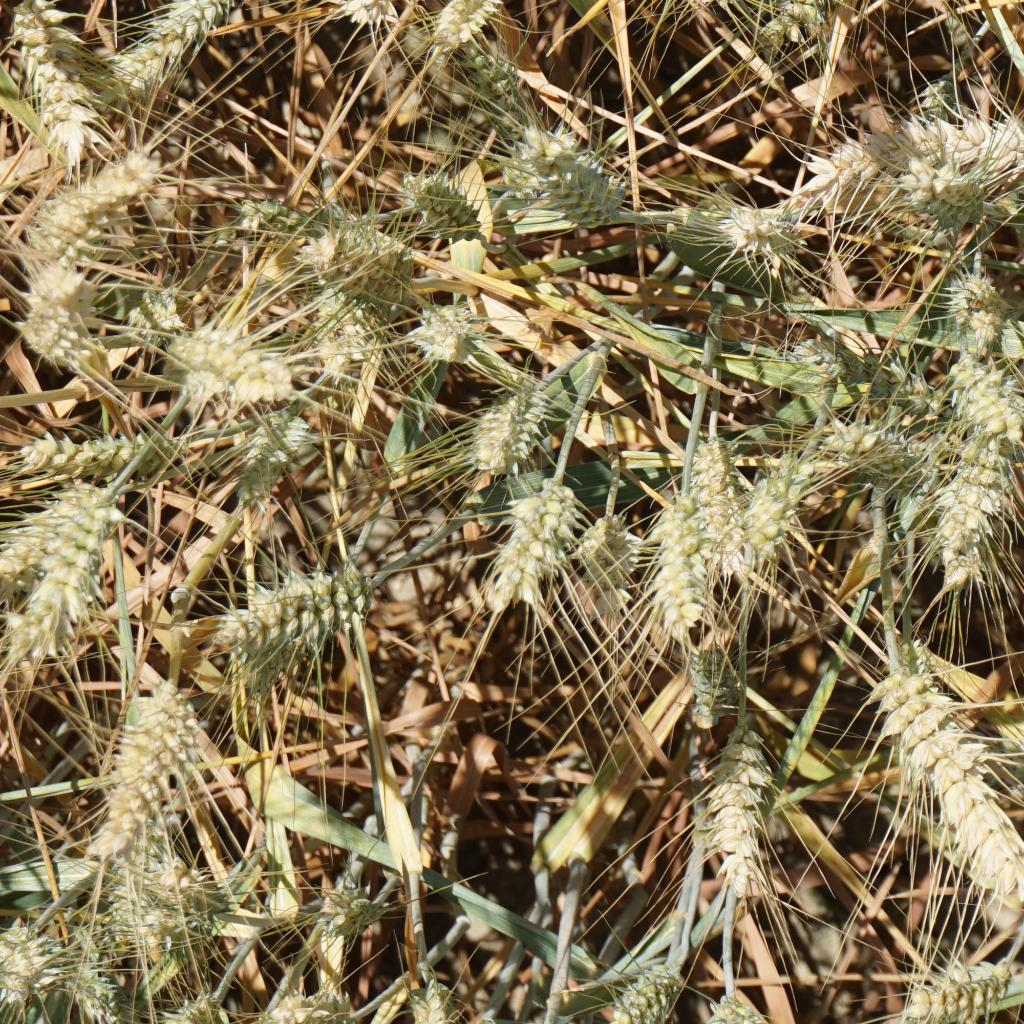0-0: (872, 659, 1024, 907), (80, 673, 206, 869), (778, 92, 980, 212), (205, 562, 401, 669), (791, 332, 961, 435), (922, 429, 1014, 601), (872, 620, 957, 804), (488, 464, 588, 617), (702, 721, 782, 908), (10, 0, 105, 154), (519, 116, 636, 233), (673, 422, 748, 581), (638, 482, 709, 643), (19, 523, 115, 641), (216, 398, 316, 508), (28, 153, 157, 236), (882, 97, 1024, 171), (117, 0, 239, 84), (815, 414, 929, 502), (231, 560, 299, 705), (161, 320, 289, 396), (306, 205, 406, 299), (128, 842, 243, 920), (894, 952, 1019, 1023), (104, 851, 184, 955), (11, 424, 181, 470), (573, 507, 640, 623), (463, 38, 532, 144), (0, 489, 101, 560), (936, 258, 1018, 342), (741, 452, 805, 555), (407, 165, 489, 243), (936, 724, 1024, 796), (402, 286, 479, 365), (892, 162, 982, 227), (716, 194, 807, 258), (947, 360, 1024, 435), (669, 643, 741, 722), (28, 233, 97, 315), (54, 946, 128, 1021), (19, 311, 98, 381), (0, 919, 64, 1004), (312, 285, 373, 374), (479, 388, 541, 474), (752, 0, 841, 59), (312, 884, 382, 942), (120, 275, 176, 344), (621, 960, 679, 1024), (261, 983, 349, 1024), (428, 0, 498, 43), (498, 144, 550, 200), (227, 190, 285, 240), (402, 978, 463, 1024), (700, 986, 772, 1024), (884, 365, 939, 412), (343, 0, 417, 20)
